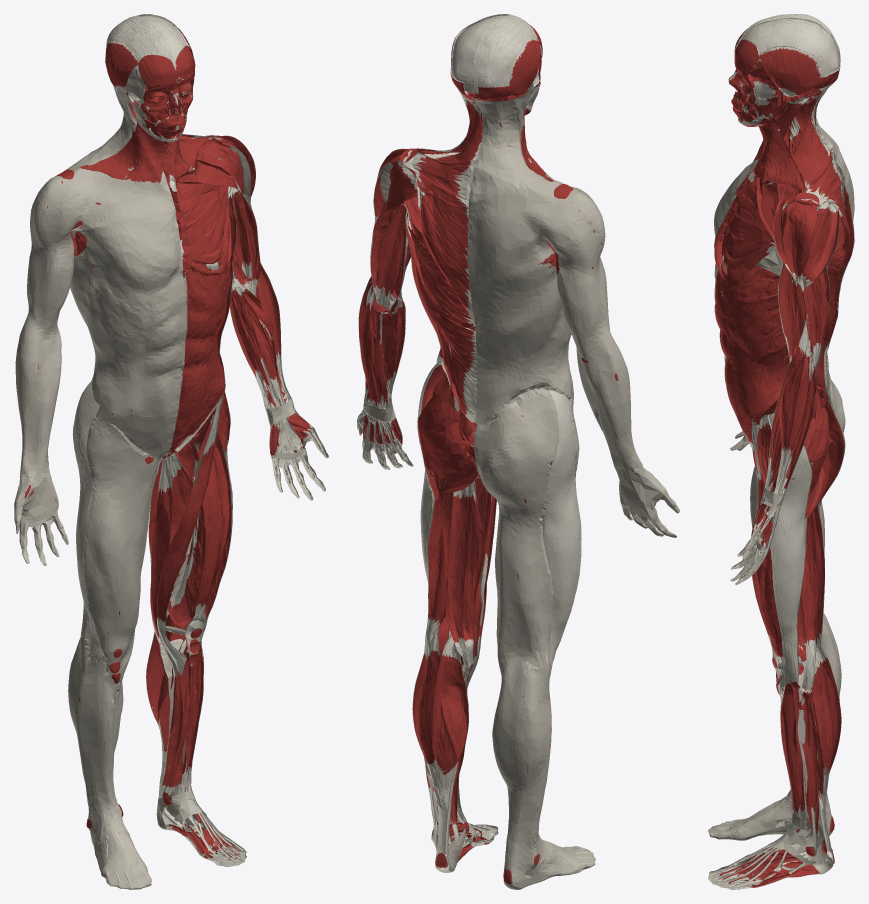
Rendered from muscles.glb.
3 views of the same model, side by side, from view 1: azimuth 30°, elevation 25°; view 2: azimuth 150°, elevation 25°; view 3: azimuth 270°, elevation 25° (orthographic). The views are drawn at different scales.
Parts seen in each view (by area): view 1: Investing_abdominal_fascia|r, Fascia_lata|r, Crural_fascia|r, Pectoral_fascia|r, External_abdominal_oblique_muscle|l, Antebrachial_fascia|r, Sternocostal_head_of_pectoralis_major_muscle|l, Deltoid_fascia|r, Rectus_femoris_muscle|l, Sartorius_muscle|l, Brachial_fascia|r, Iliotibial_tract|r (+29 smaller); view 2: Investing_abdominal_fascia|r, Fascia_lata|r, Crural_fascia|r, Superficial_investing_cervical_fascia|r, Iliotibial_tract|r, Latissimus_dorsi_muscle|l, Antebrachial_fascia|r, Descending_part_of_trapezius_muscle|l, Deltoid_fascia|r, Gluteus_maximus_muscle|l, Medial_head_of_gastrocnemius|l, Brachial_fascia|r (+22 smaller); view 3: External_abdominal_oblique_muscle|l, Iliotibial_tract|l, Sternocostal_head_of_pectoralis_major_muscle|l, Epicranial_aponeurosis|l, Long_head_of_biceps_femoris|l, Gluteus_maximus_muscle|l, Crural_fascia|r, Temporoparietalis_muscle|l, Lateral_head_of_gastrocnemius|l, Platysma|l, Brachioradialis_muscle|l, Acromial_part_of_deltoid_muscle|l (+46 smaller).
Boxes of the visible parts, x1,y1,x2,y2 form: Investing_abdominal_fascia|r: (70, 239, 184, 457); Fascia_lata|r: (72, 380, 165, 658); Crural_fascia|r: (68, 638, 151, 889); Pectoral_fascia|r: (78, 178, 182, 294); External_abdominal_oblique_muscle|l: (172, 257, 232, 443); Antebrachial_fascia|r: (15, 315, 61, 464); Sternocostal_head_of_pectoralis_major_muscle|l: (176, 181, 237, 274); Deltoid_fascia|r: (30, 169, 113, 257); Rectus_femoris_muscle|l: (185, 413, 231, 665); Sartorius_muscle|l: (156, 395, 223, 675); Brachial_fascia|r: (27, 232, 74, 329); Iliotibial_tract|r: (73, 380, 106, 668); Investing_abdominal_fascia|r: (467, 206, 573, 426); Fascia_lata|r: (473, 389, 581, 677); Crural_fascia|r: (492, 666, 595, 889); Superficial_investing_cervical_fascia|r: (468, 86, 566, 216); Iliotibial_tract|r: (542, 390, 581, 677); Latissimus_dorsi_muscle|l: (405, 210, 476, 422); Antebrachial_fascia|r: (575, 330, 641, 468); Descending_part_of_trapezius_muscle|l: (415, 172, 475, 325); Deltoid_fascia|r: (521, 173, 605, 274); Gluteus_maximus_muscle|l: (417, 387, 478, 500); Medial_head_of_gastrocnemius|l: (432, 634, 468, 774); Brachial_fascia|r: (554, 249, 609, 347); External_abdominal_oblique_muscle|l: (715, 265, 789, 441); Iliotibial_tract|l: (768, 412, 812, 688); Sternocostal_head_of_pectoralis_major_muscle|l: (714, 180, 774, 277); Epicranial_aponeurosis|l: (738, 18, 840, 78); Long_head_of_biceps_femoris|l: (800, 484, 824, 693); Gluteus_maximus_muscle|l: (804, 392, 844, 518); Crural_fascia|r: (708, 618, 841, 840); Temporoparietalis_muscle|l: (759, 46, 821, 96); Lateral_head_of_gastrocnemius|l: (798, 643, 841, 775); Platysma|l: (738, 113, 805, 190); Brachioradialis_muscle|l: (773, 314, 808, 493); Acromial_part_of_deltoid_muscle|l: (783, 200, 817, 283).
Bounding box in the file's own units: 0.6878 × 1.74 × 0.2754.
